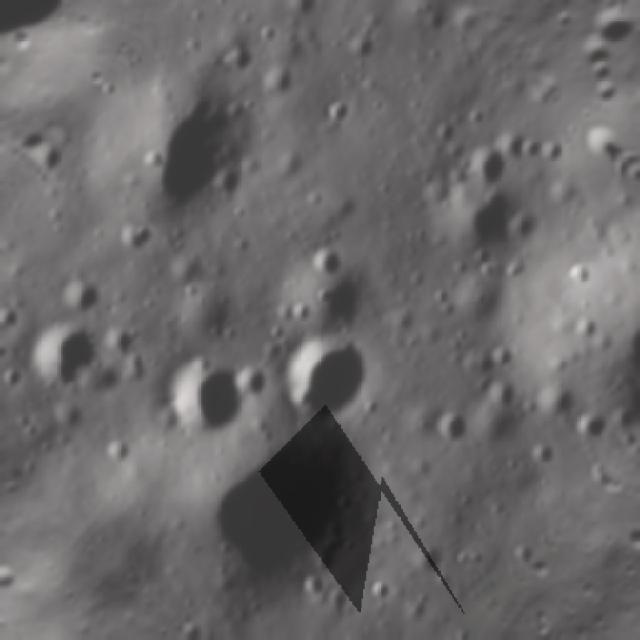crater: (268, 318, 387, 436), (149, 344, 251, 447), (15, 308, 101, 394), (462, 142, 512, 190), (50, 273, 99, 321), (110, 346, 155, 391), (568, 406, 610, 448), (528, 132, 570, 174), (340, 28, 382, 70), (430, 408, 470, 448), (319, 93, 358, 132), (215, 42, 253, 82), (564, 308, 602, 347), (524, 432, 562, 470), (293, 567, 332, 604), (115, 218, 152, 256), (256, 58, 293, 96), (304, 244, 341, 282), (561, 255, 597, 291), (134, 144, 168, 178), (100, 434, 134, 468), (363, 573, 397, 607), (282, 0, 324, 22), (0, 296, 22, 333), (0, 363, 23, 391), (257, 20, 281, 46)
